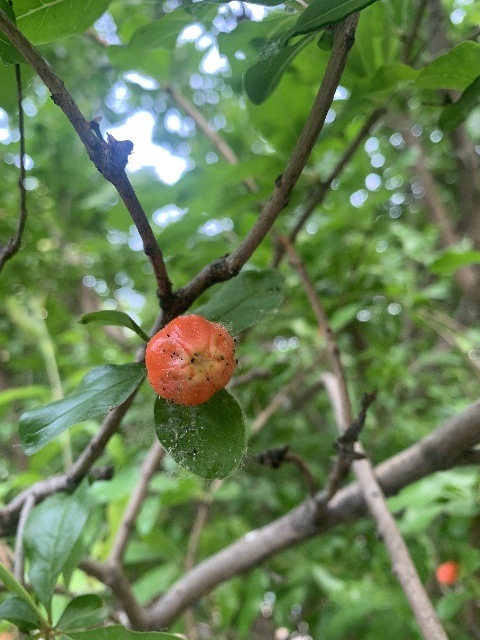bud: (145, 314, 236, 406)
